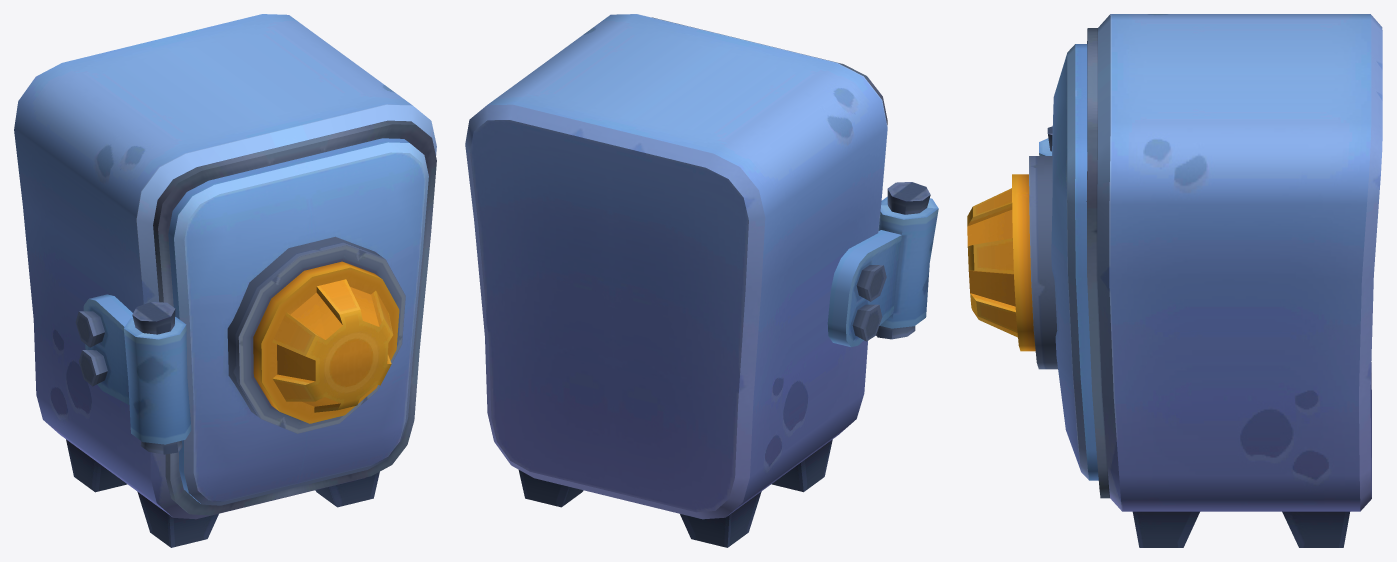
The model's file is heist_safe.glb.
The picture shows the model from 3 angles, left to right: view 1: azimuth 30°, elevation 25°; view 2: azimuth 150°, elevation 25°; view 3: azimuth 270°, elevation 25°; orthographic projection. The views are drawn at different scales.
Parts seen in each view (by area): view 1: Merged Objects_0, Merged Objects 1_1; view 2: Merged Objects_0; view 3: Merged Objects_0, Merged Objects 1_1.
Boxes of the visible parts, x1,y1,x2,y2 form: Merged Objects_0: (14,14,436,547); Merged Objects 1_1: (168,138,428,505); Merged Objects_0: (465,14,938,547); Merged Objects_0: (1039,14,1382,547); Merged Objects 1_1: (967,44,1098,480).
Bounding box in the file's own units: 0.0238 × 0.0282 × 0.025.
1 material, 1 textured.
